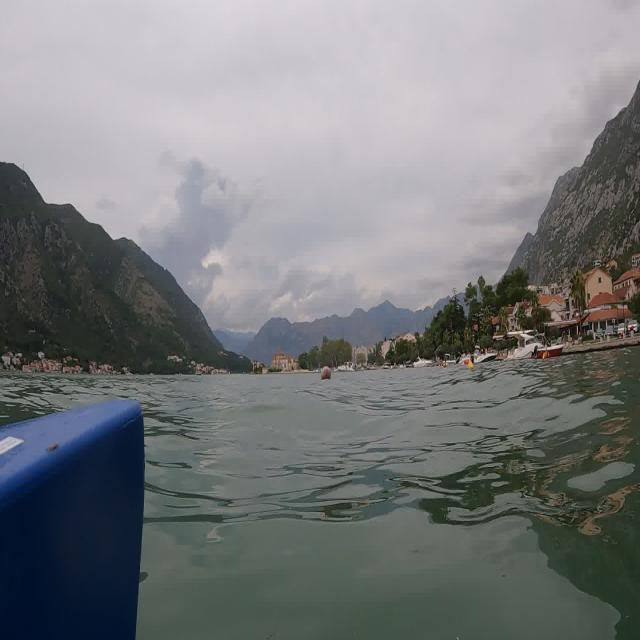buoy: (317, 360, 338, 385)
